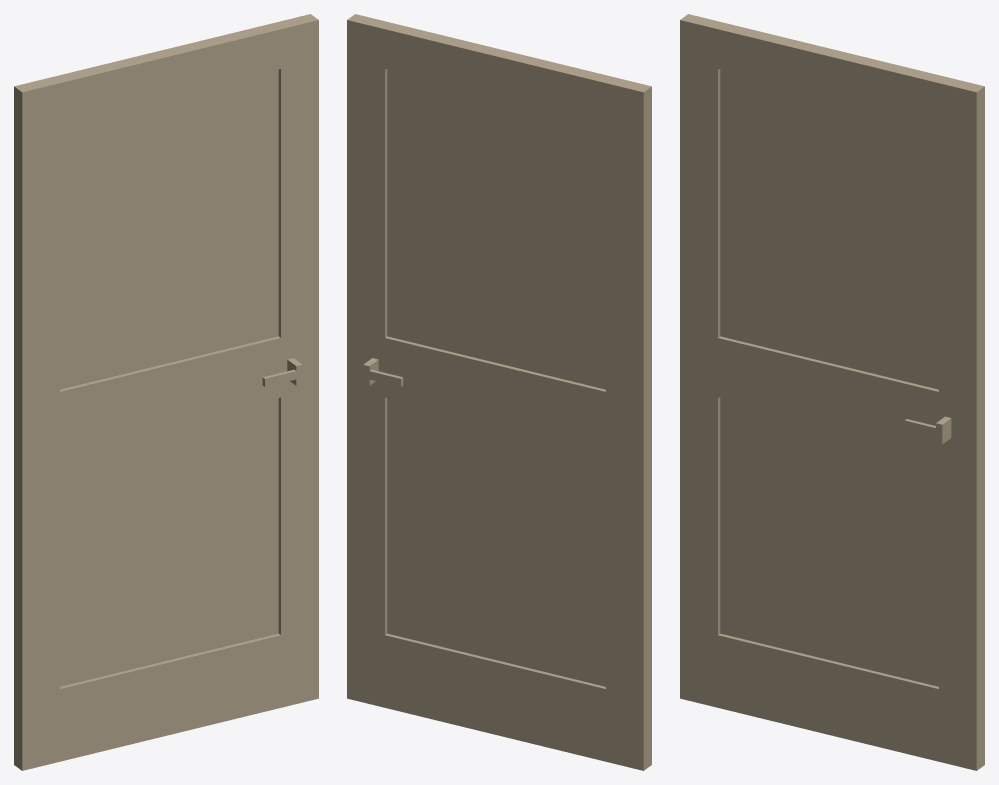
File: door.glb
3 renders of one model, left to right at view 1: azimuth 30°, elevation 25°; view 2: azimuth 150°, elevation 25°; view 3: azimuth 330°, elevation 25°, orthographic.
Parts seen in each view (by area): view 1: door; view 2: door; view 3: door.
Boxes of the visible parts, x1,y1,x2,y2 form: door: [14, 14, 318, 770]; door: [347, 14, 651, 770]; door: [680, 14, 984, 770].
Bounding box in the file's own units: 0.94 × 2.06 × 0.145.
